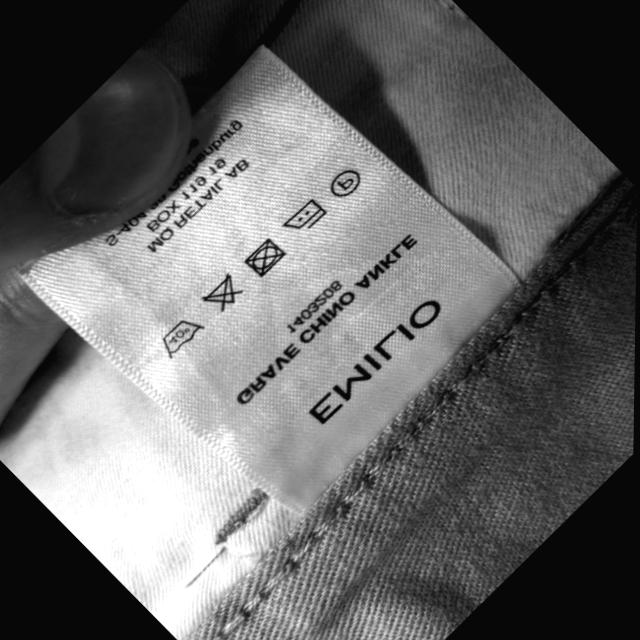40C: (162, 317, 211, 358)
DN_bleach: (202, 275, 246, 312)
DN_tumble_dry: (244, 237, 290, 278)
dry_clean_any_solvent_except_trichloroethylene: (329, 164, 367, 198)
iron_medium: (284, 198, 331, 231)
